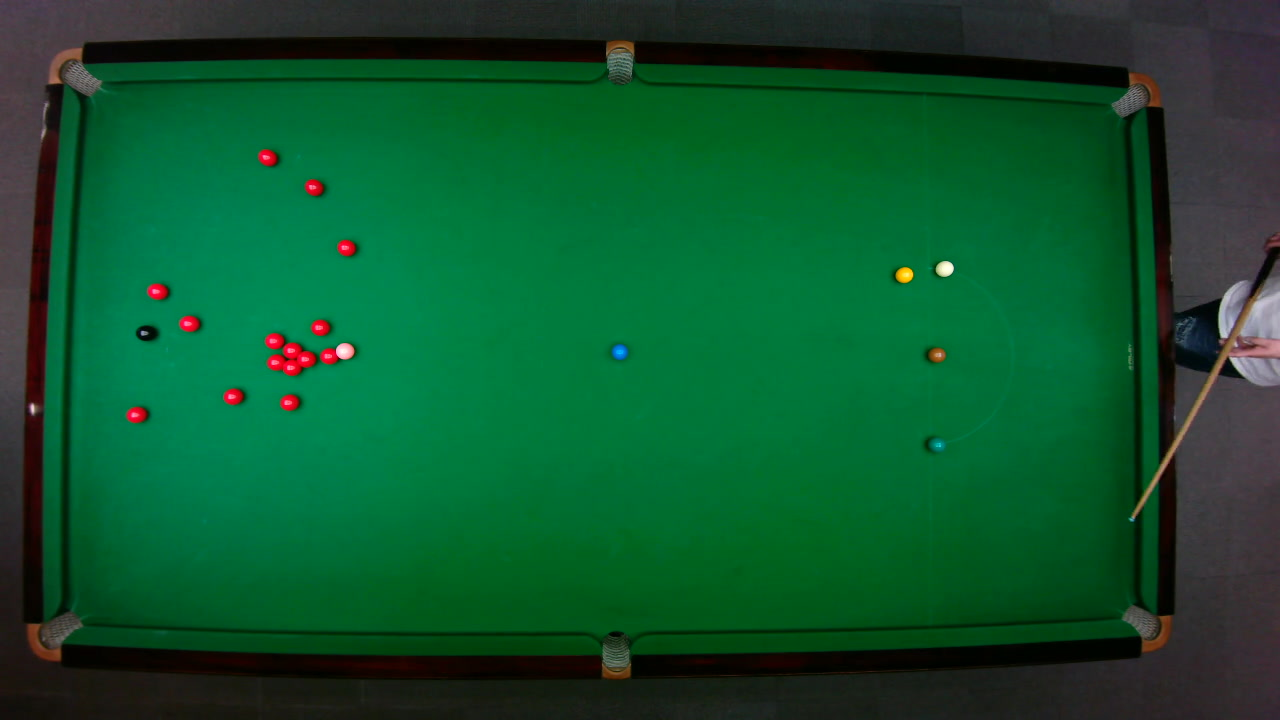bag: (25, 609, 84, 662), (46, 46, 102, 97), (1119, 603, 1172, 652), (1108, 71, 1162, 118), (601, 629, 630, 680), (605, 38, 633, 85)
black: (134, 323, 156, 341)
blue: (609, 342, 628, 360)
brown: (926, 346, 946, 362)
cue: (1124, 253, 1279, 524)
green: (926, 435, 945, 452)
pink: (334, 341, 355, 360)
red: (145, 281, 169, 300), (294, 348, 316, 368), (221, 386, 244, 405), (124, 405, 148, 423), (256, 147, 278, 166), (302, 177, 324, 196), (278, 392, 300, 411), (177, 314, 200, 332), (335, 237, 356, 256), (265, 352, 286, 371), (263, 331, 285, 349), (309, 318, 330, 335), (281, 341, 302, 358), (319, 346, 338, 364), (282, 360, 302, 376)
white: (933, 259, 954, 277)
yellow: (893, 265, 914, 283)
zone: (926, 268, 1013, 444)
